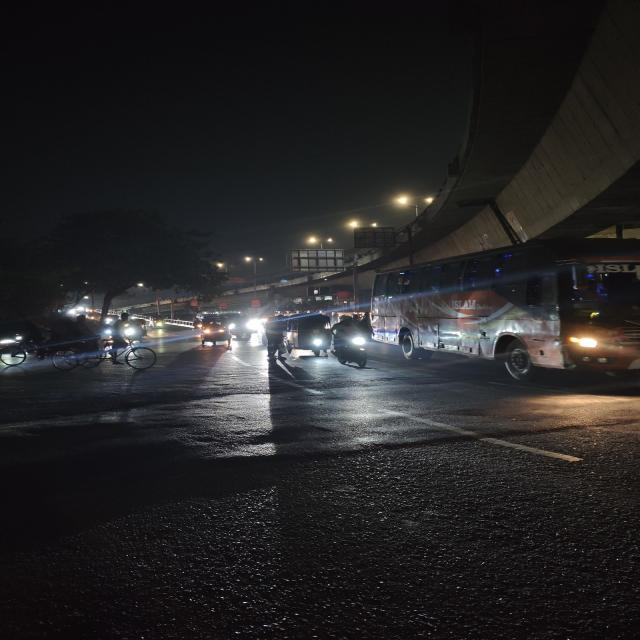bus: (370, 229, 640, 387)
cng: (290, 313, 332, 362), (190, 314, 237, 348)
motorcycle: (323, 314, 374, 368)
pedestrian: (264, 315, 288, 366)
rickshaw: (52, 318, 160, 376)
